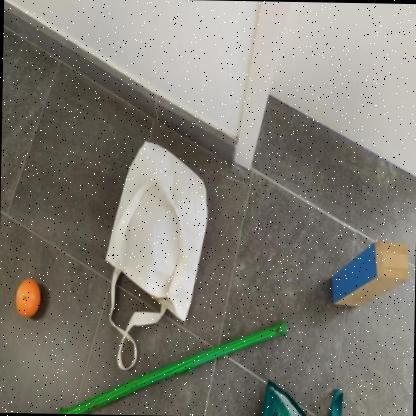bag: (83, 134, 219, 378)
